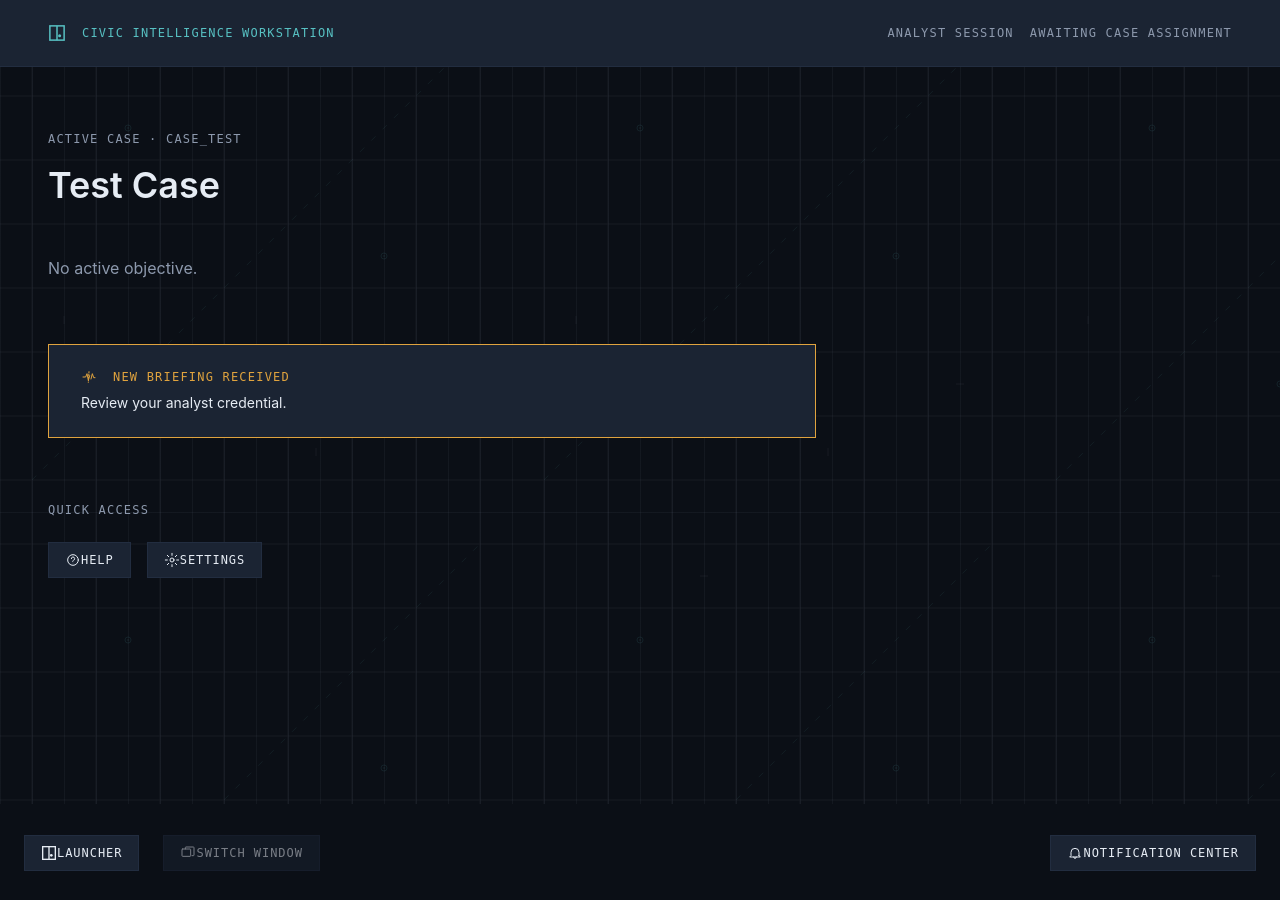
Test case: session save runtime controller › ignores a valid stale save result from the old identity
This screenshot has width=1280, height=900.
Check: the button "Launcher" is shown, box [24,834,140,870]
Click the button "Notification center": click(1153, 852) [1050,834,1256,870]
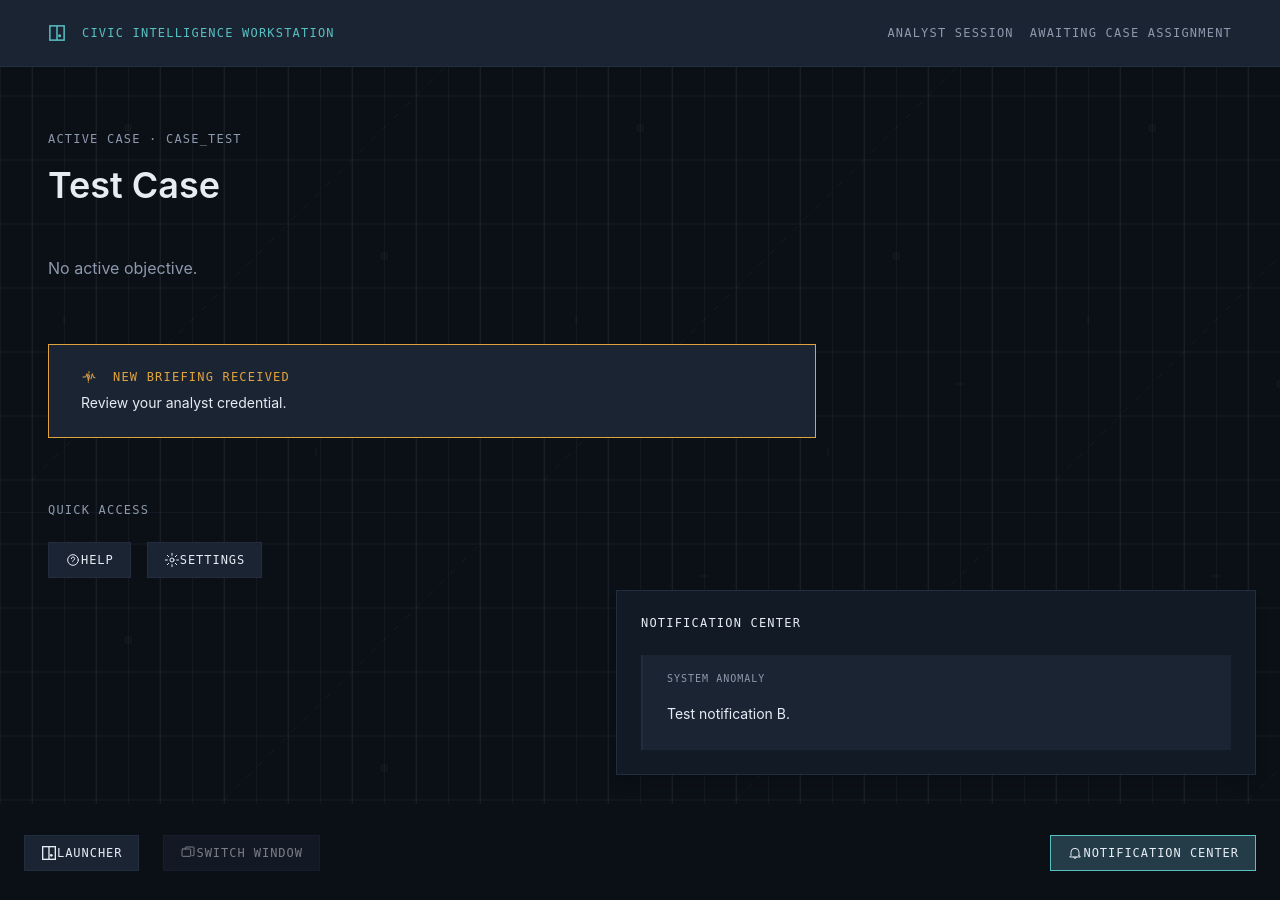
Check: the button "Launcher" is shown, box [24,834,140,870]
Check: the text "Test notification B." is shown, box [667,704,790,722]
